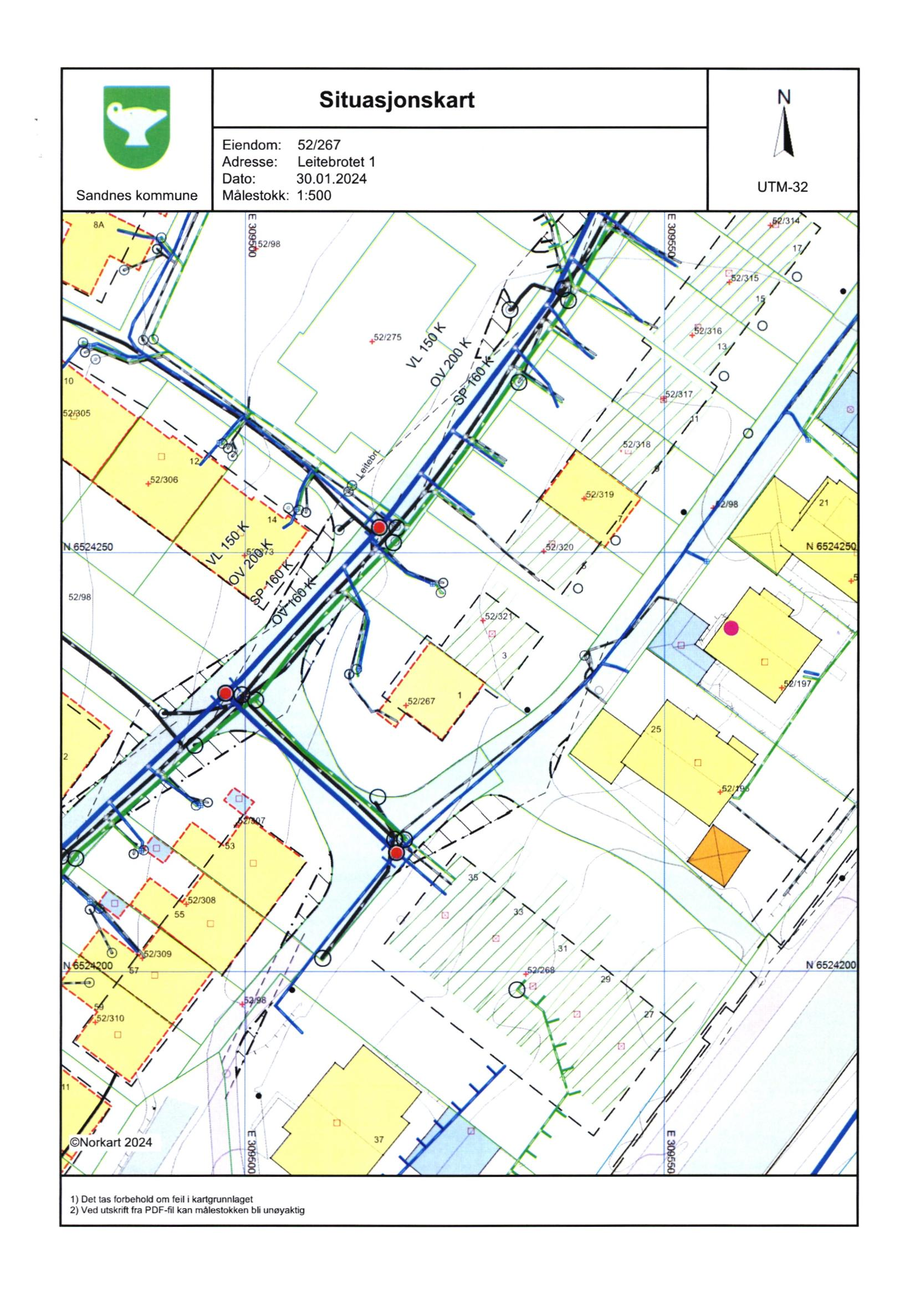situasjonskart: (61, 208, 859, 1176)
